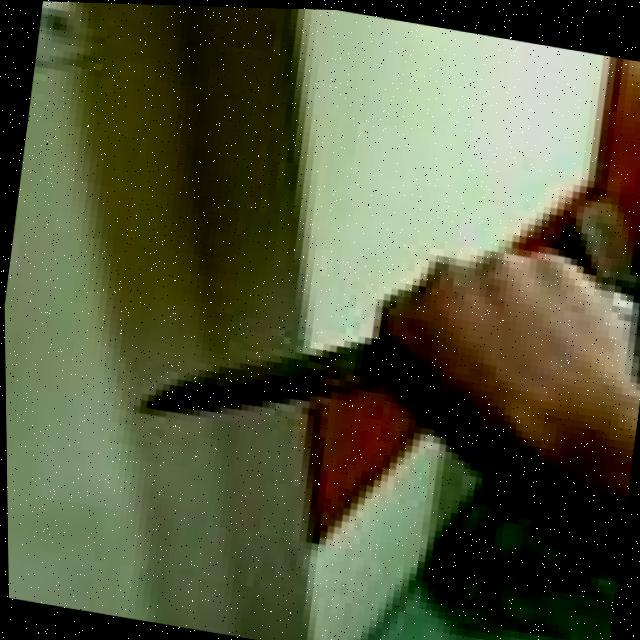knife: (130, 298, 411, 457)
